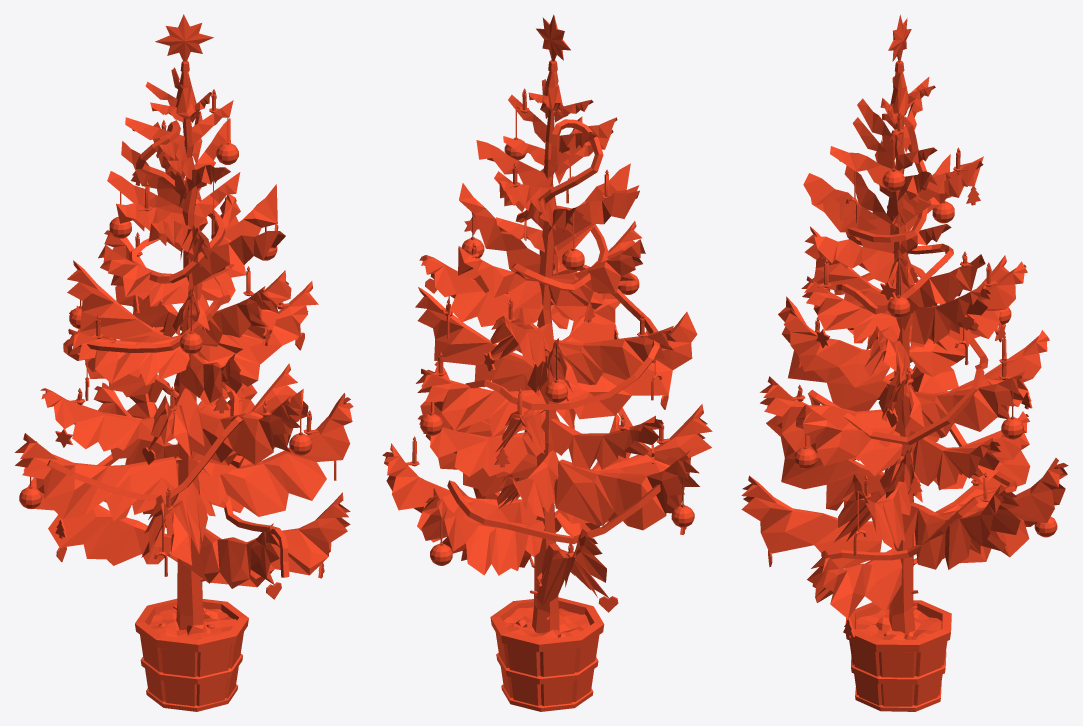
File: SM_Tree_Christmass.fbx
3 views of the same model, side by side, from view 1: azimuth 30°, elevation 25°; view 2: azimuth 150°, elevation 25°; view 3: azimuth 270°, elevation 25° (orthographic).
Parts seen in each view (by area): view 1: SM_Tree_Christmass; view 2: SM_Tree_Christmass; view 3: SM_Tree_Christmass.
Part boxes in pixels (x1,y1,x2,y2): SM_Tree_Christmass: (14, 14, 353, 711); SM_Tree_Christmass: (382, 14, 712, 711); SM_Tree_Christmass: (741, 14, 1068, 711).
Bounding box in the file's own units: 1.24 × 2.65 × 1.16.
